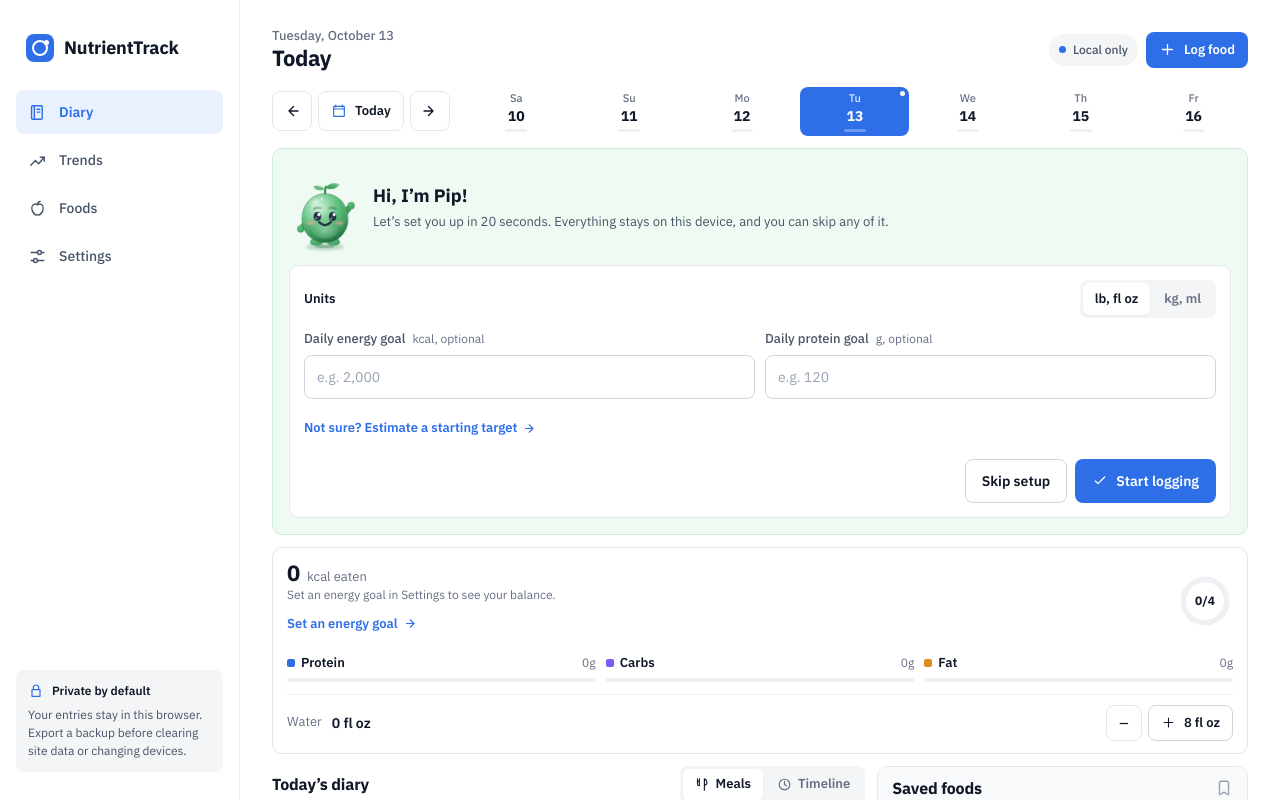
Test case: favoriting a food › shows an error and keeps the food unchanged on screen when the save fails
Click the button "Foods": (120, 208) [16,186,223,230]
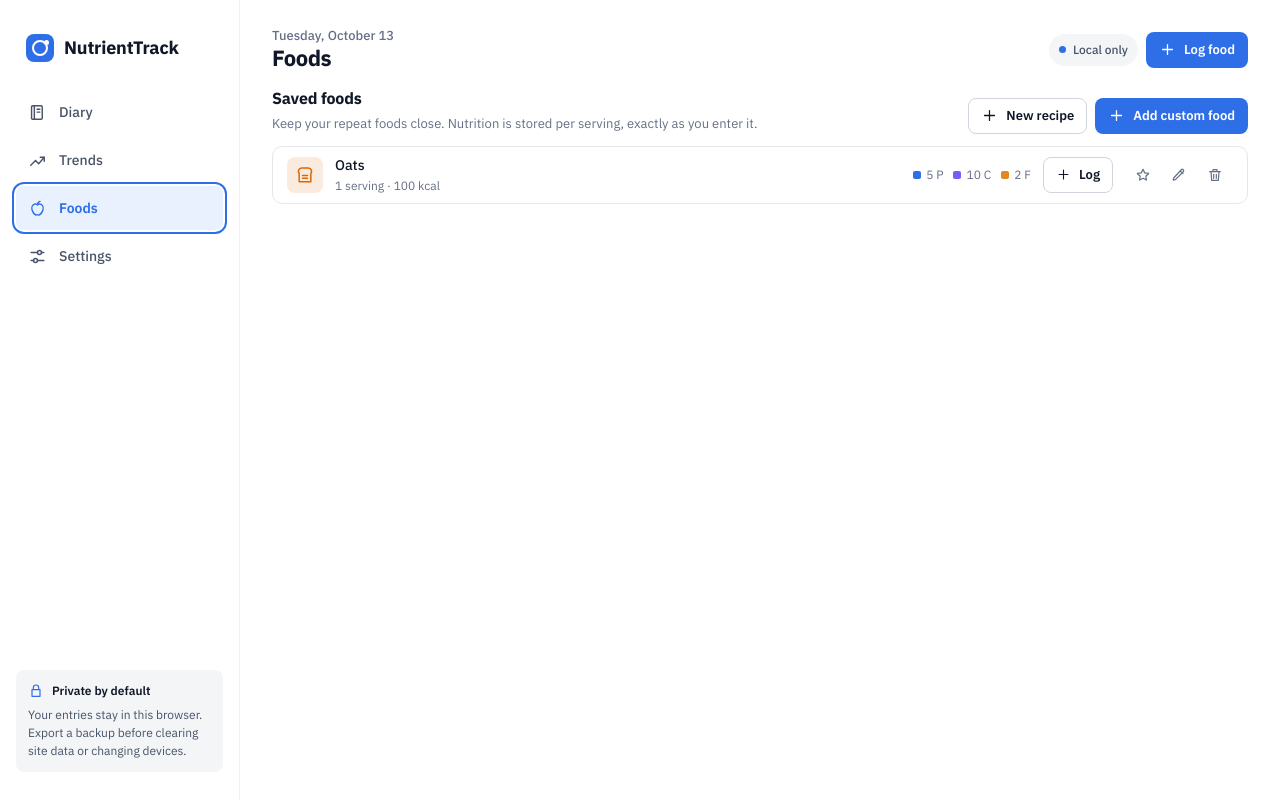
Click the button named "Favorite Oats": (1143, 175) [1125,157,1161,193]
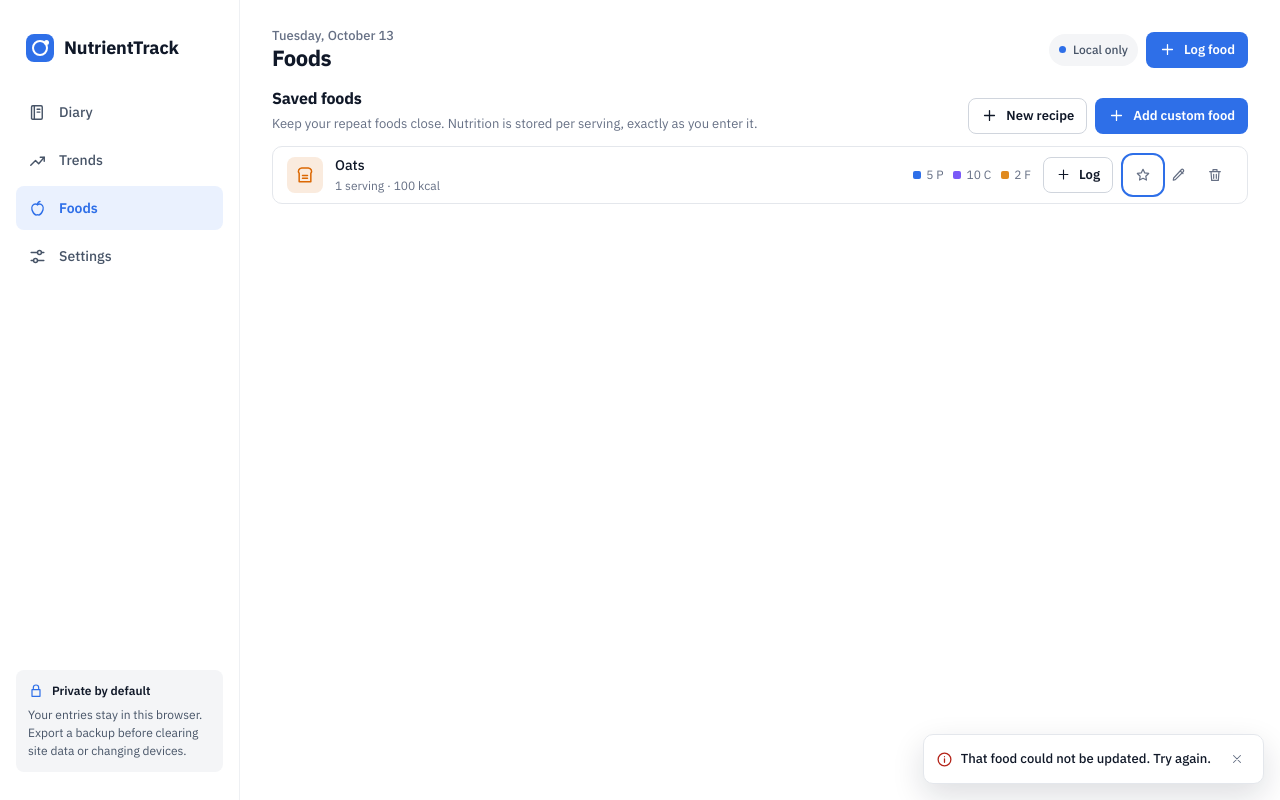
Expected: the element with class "error" shows "That food could not be updated", [961,750,1211,767]
